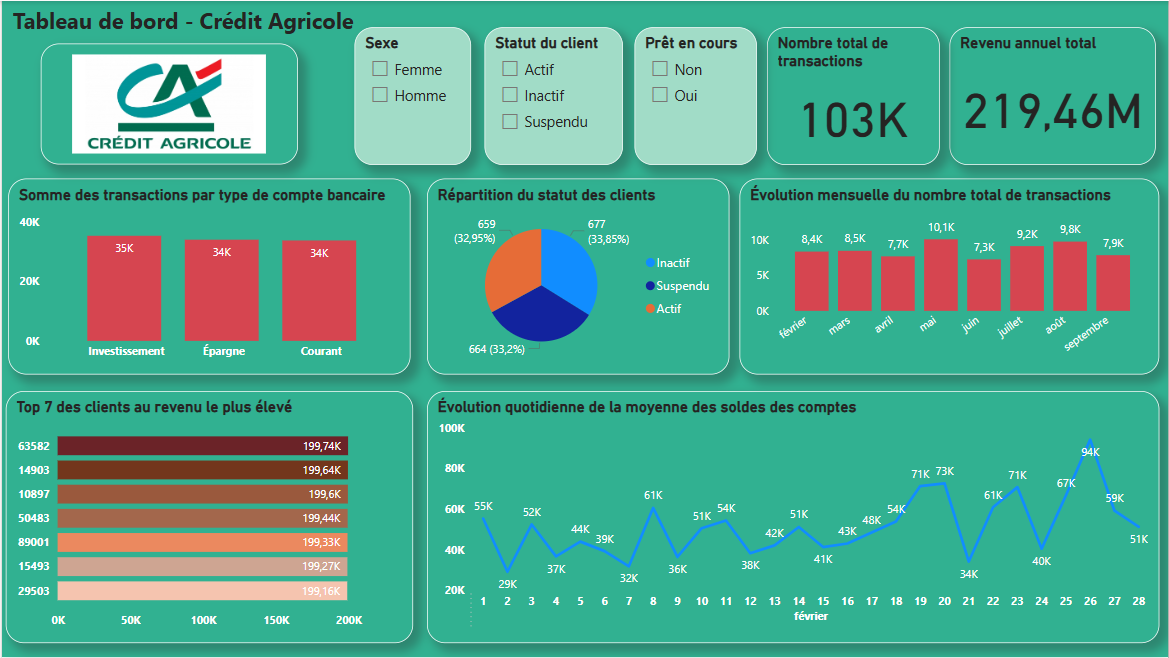

The page's visual inventory and layout, read from the dashboard file:
{"tool":"powerbi","page":{"name":"Page 1","canvas":[1280,720],"ordinal":0},"visuals":[{"type":"textbox","box":[6.9,0,439.1,57.6],"z":0},{"type":"columnChart","title":"Somme des transactions par type de compte bancaire","fields":{"Y":["Credit_Agricole_db.Nombre_Transactions_Annuelles"],"Category":["Credit_Agricole_db.Type_Compte"]},"box":[6.9,194.9,441.9,215.4],"z":1000},{"type":"pieChart","title":"Répartition du statut des clients","fields":{"Y":["Credit_Agricole_db.ID_Client"],"Category":["Credit_Agricole_db.Statut_Client"]},"box":[466.6,194.9,332.1,215.4],"z":2000},{"type":"barChart","title":"Top 7 des clients au revenu le plus élevé","fields":{"Category":["Credit_Agricole_db.ID_Client"],"Y":["Credit_Agricole_db.Revenu_Annuel"]},"box":[4.1,428.1,447.3,277.2],"z":3000},{"type":"lineChart","title":"Évolution quotidienne de la moyenne des soldes des comptes","fields":{"Y":["Credit_Agricole_db.Solde_Compte"],"Category":["Credit_Agricole_db.Date_Dernière_Transaction.Variation.Hiérarchie de dates.Mois","Credit_Agricole_db.Date_Dernière_Transaction.Variation.Hiérarchie de dates.Jour"]},"box":[466.6,428.1,804.1,277.2],"z":4000},{"type":"columnChart","title":"Évolution mensuelle du nombre total de transactions","fields":{"Y":["Credit_Agricole_db.Nombre_Transactions_Annuelles"],"Category":["Credit_Agricole_db.Date_Dernière_Transaction.Variation.Hiérarchie de dates.Mois"]},"box":[809.6,194.9,461.1,215.4],"z":5000},{"type":"card","title":"Revenu annuel total","fields":{"Values":["Credit_Agricole_db.Revenu_Annuel"]},"box":[1040.1,28.8,226.4,150.9],"z":6000},{"type":"card","title":"Nombre total de transactions","fields":{"Values":["Credit_Agricole_db.Nombre_Transactions_Annuelles"]},"box":[839.8,28.8,189.4,150.9],"z":7000},{"type":"slicer","title":"Sexe","fields":{"Values":["Credit_Agricole_db.Sexe"]},"box":[387,28.8,127.6,150.9],"z":8000},{"type":"slicer","title":"Statut du client","fields":{"Values":["Credit_Agricole_db.Statut_Client"]},"box":[529.7,28.8,152.3,150.9],"z":9000},{"type":"slicer","title":"Prêt en cours","fields":{"Values":["Credit_Agricole_db.Prêt_En_Cours"]},"box":[694.3,28.8,134.5,150.9],"z":10000},{"type":"image","box":[42.5,46.7,282.7,133.1],"z":11000}]}

Visuals, with their boxes in screenshot pixels (x1, y1, x2, y2), scaled from the page's 1280x720 canvas onto the 1169x658 screenshot:
textbox: 6, 0, 407, 53
"Somme des transactions par type de compte bancaire" columnChart: 6, 178, 410, 375
"Répartition du statut des clients" pieChart: 426, 178, 729, 375
"Top 7 des clients au revenu le plus élevé" barChart: 4, 391, 412, 645
"Évolution quotidienne de la moyenne des soldes des comptes" lineChart: 426, 391, 1161, 645
"Évolution mensuelle du nombre total de transactions" columnChart: 739, 178, 1161, 375
"Revenu annuel total" card: 950, 26, 1157, 164
"Nombre total de transactions" card: 767, 26, 940, 164
"Sexe" slicer: 353, 26, 470, 164
"Statut du client" slicer: 484, 26, 623, 164
"Prêt en cours" slicer: 634, 26, 757, 164
image: 39, 43, 297, 164
